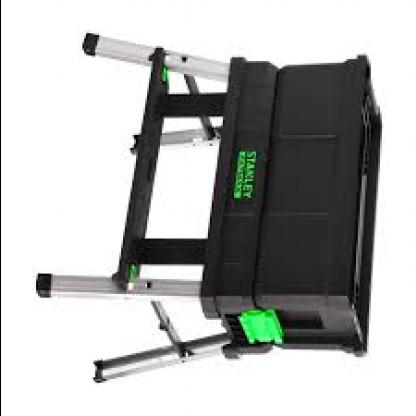Tool Box: (32, 28, 392, 387)
